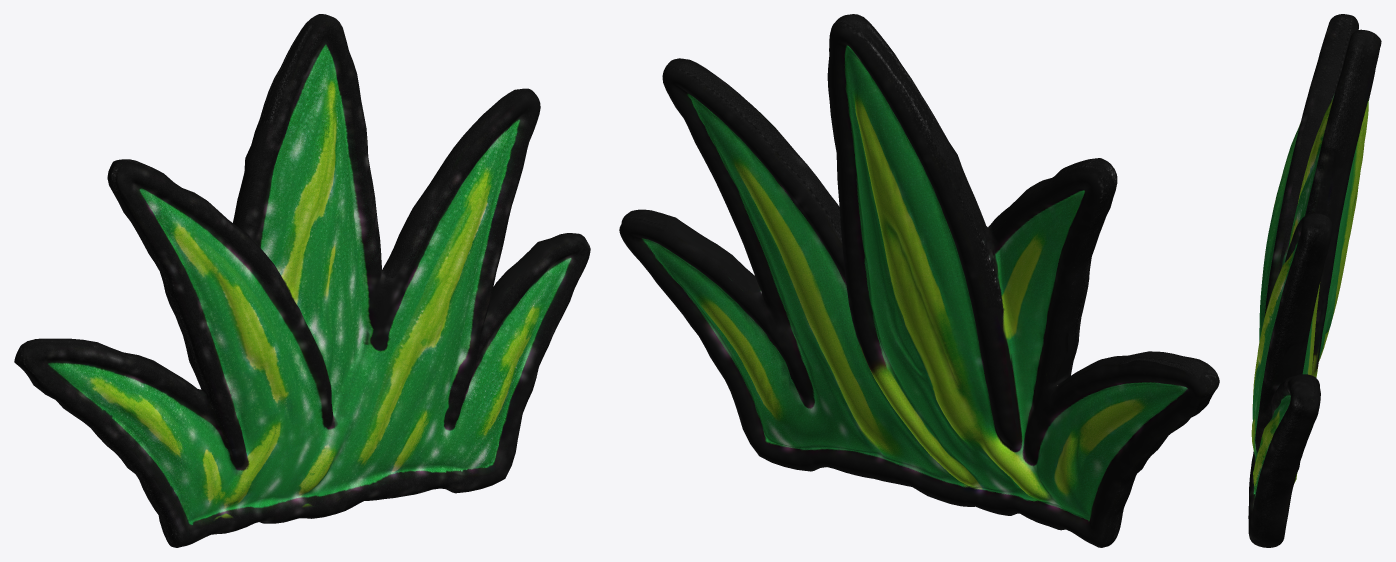
The model's file is grass.glb.
3 renders of one model, left to right at view 1: azimuth 30°, elevation 25°; view 2: azimuth 150°, elevation 25°; view 3: azimuth 270°, elevation 25°, orthographic. The views are drawn at different scales.
Visible parts, largest first — view 1: tripo_node_dd289ce8-02d8-41de-833b-6ad2c2377e7e; view 2: tripo_node_dd289ce8-02d8-41de-833b-6ad2c2377e7e; view 3: tripo_node_dd289ce8-02d8-41de-833b-6ad2c2377e7e.
Boxes of the visible parts, bbox=[...] form: tripo_node_dd289ce8-02d8-41de-833b-6ad2c2377e7e: bbox=[14, 14, 590, 547]; tripo_node_dd289ce8-02d8-41de-833b-6ad2c2377e7e: bbox=[619, 14, 1219, 547]; tripo_node_dd289ce8-02d8-41de-833b-6ad2c2377e7e: bbox=[1248, 14, 1381, 547].
Bounding box in the file's own units: 0.979 × 0.7826 × 0.2057.
Materials: 1 (1 with a texture image).
